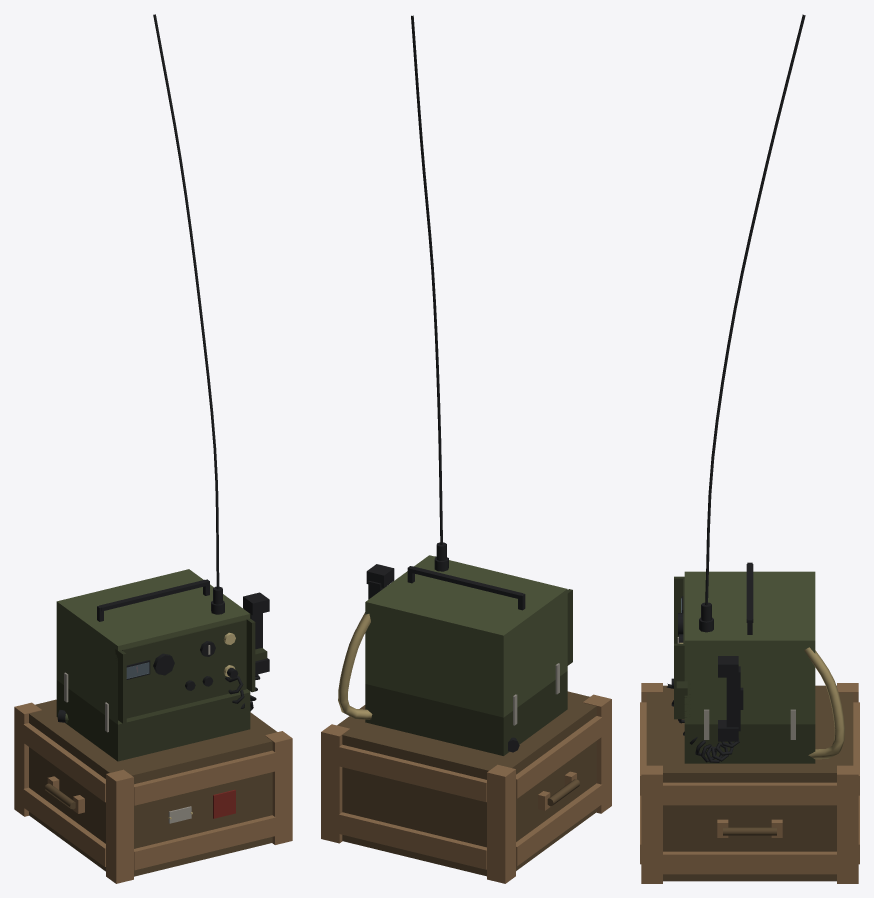
File: an-prc-25-field.glb
The picture shows the model from 3 angles, left to right: view 1: azimuth 30°, elevation 25°; view 2: azimuth 150°, elevation 25°; view 3: azimuth 270°, elevation 25°; orthographic projection. The views are drawn at different scales.
Parts seen in each view (by area): view 1: Mesh_Crate_Main, Mesh_Radio_Body, Mesh_Radio_Control_Panel, Mesh_Battery_Box, Mesh_Crate_Slat_FT, Mesh_Crate_Slat_FB, Mesh_Crate_Post_FR, Mesh_Crate_Post_FL, Mesh_Crate_Slat_RT, Mesh_Crate_Slat_RB, Mesh_Whip_Antenna, Mesh_Crate_Post_BR (+4 smaller); view 2: Mesh_Radio_Body, Mesh_Crate_Main, Mesh_Battery_Box, Mesh_Crate_Slat_BB, Mesh_Crate_Slat_BT, Mesh_Crate_Post_BR, Mesh_Crate_Post_BL, Mesh_Crate_Slat_RT, Mesh_Crate_Slat_RB, Mesh_Whip_Antenna, Mesh_Crate_Post_FR, Mesh_Web_Strap (+1 smaller); view 3: Mesh_Radio_Body, Mesh_Crate_Main, Mesh_Battery_Box, Mesh_Crate_Slat_LT, Mesh_Crate_Slat_LB, Mesh_Crate_Post_FL, Mesh_Crate_Post_BL, Mesh_Whip_Antenna, Mesh_Web_Strap, Mesh_Handset_Handle, Mesh_Radio_Guard_L, Mesh_Coiled_Cable (+6 smaller).
Boxes of the visible parts, box(x1,y1,x2,y2) form: Mesh_Crate_Main: box(29, 699, 276, 876); Mesh_Radio_Body: box(56, 569, 250, 724); Mesh_Radio_Control_Panel: box(122, 619, 246, 718); Mesh_Battery_Box: box(56, 680, 250, 761); Mesh_Crate_Slat_FT: box(134, 750, 275, 805); Mesh_Crate_Slat_FB: box(134, 815, 275, 870); Mesh_Crate_Post_FR: box(106, 769, 133, 883); Mesh_Crate_Post_FL: box(265, 731, 292, 844); Mesh_Crate_Slat_RT: box(23, 723, 105, 802); Mesh_Crate_Slat_RB: box(23, 787, 105, 866); Mesh_Whip_Antenna: box(153, 14, 219, 589); Mesh_Crate_Post_BR: box(14, 702, 41, 816); Mesh_Radio_Body: box(365, 555, 567, 717); Mesh_Crate_Main: box(337, 691, 596, 876); Mesh_Battery_Box: box(365, 671, 567, 755); Mesh_Crate_Slat_BB: box(339, 812, 486, 869); Mesh_Crate_Slat_BT: box(339, 744, 486, 802); Mesh_Crate_Post_BR: box(487, 764, 515, 883); Mesh_Crate_Post_BL: box(321, 724, 349, 843); Mesh_Crate_Slat_RT: box(516, 716, 602, 798); Mesh_Crate_Slat_RB: box(516, 783, 602, 866); Mesh_Whip_Antenna: box(411, 15, 442, 544); Mesh_Crate_Post_FR: box(583, 694, 611, 813); Mesh_Web_Strap: box(338, 612, 372, 719); Mesh_Radio_Body: box(684, 571, 815, 724); Mesh_Crate_Main: box(646, 685, 853, 881); Mesh_Battery_Box: box(684, 724, 815, 763); Mesh_Crate_Slat_LT: box(663, 782, 836, 805); Mesh_Crate_Slat_LB: box(663, 851, 836, 874); Mesh_Crate_Post_FL: box(641, 765, 662, 883); Mesh_Crate_Post_BL: box(837, 765, 858, 883); Mesh_Whip_Antenna: box(705, 14, 805, 605); Mesh_Web_Strap: box(804, 647, 844, 759); Mesh_Handset_Handle: box(726, 666, 740, 731); Mesh_Radio_Guard_L: box(674, 643, 690, 719); Mesh_Coiled_Cable: box(666, 683, 739, 762).
Bounding box in the file's own units: 0.447 × 1.7 × 0.405.
Materials: 2 (2 with a texture image).
